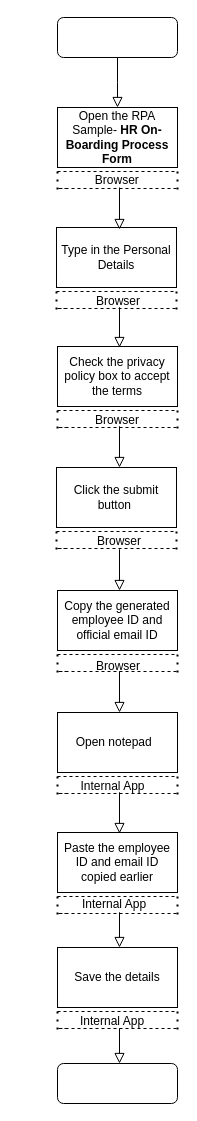
Some shapes in this 197 by 1121 pixel diagram are drawn without their labels. The shapes that lost their labels are listed below. From the top down, each one's centre as x and y in pixels, then its label:
the point at 117,37: Start
the point at 117,1083: End
